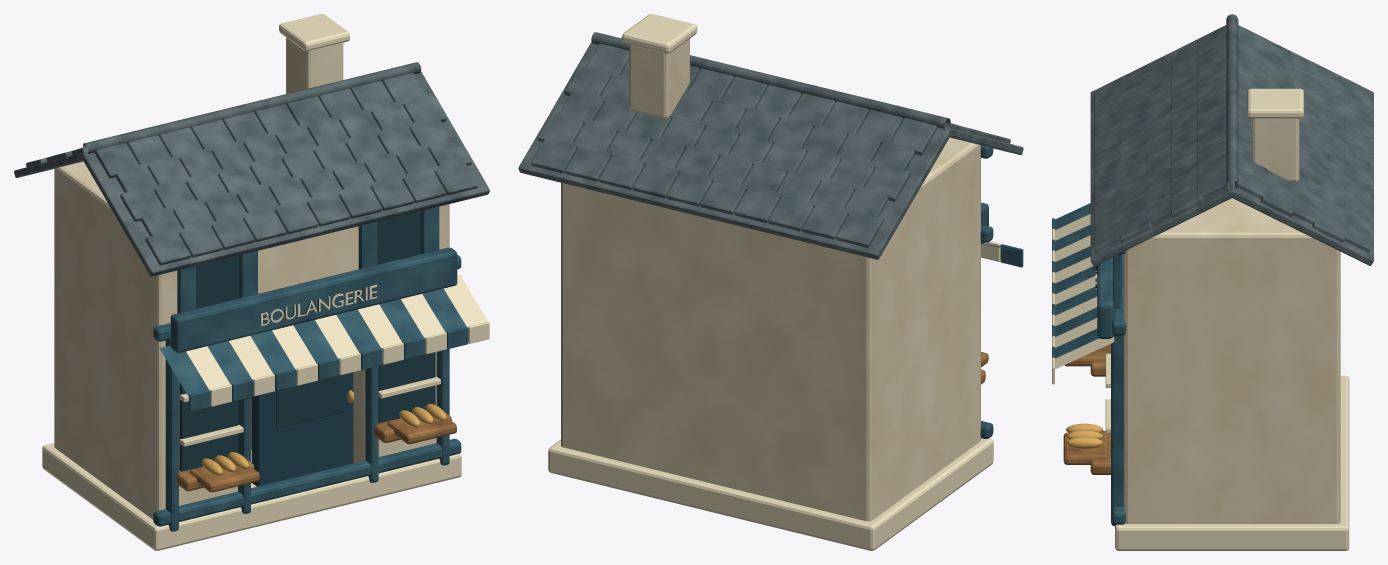
File: almacen_runtime.glb
The picture shows the model from 3 angles, left to right: view 1: azimuth 30°, elevation 25°; view 2: azimuth 150°, elevation 25°; view 3: azimuth 270°, elevation 25°; orthographic projection. The views are drawn at different scales.
Parts seen in each view (by area): view 1: fr_boulangerie_body, DoorHinge, Door glass; view 2: fr_boulangerie_body; view 3: fr_boulangerie_body.
Part boxes in pixels (box(x1,y1,x2,y2)): fr_boulangerie_body: box(14, 14, 489, 550); DoorHinge: box(251, 372, 353, 486); Door glass: box(276, 374, 344, 428); fr_boulangerie_body: box(518, 14, 1023, 550); fr_boulangerie_body: box(1052, 14, 1373, 550).
Bounding box in the file's own units: 4.57 × 5.29 × 3.68.
Materials: 4 (1 with a texture image).
